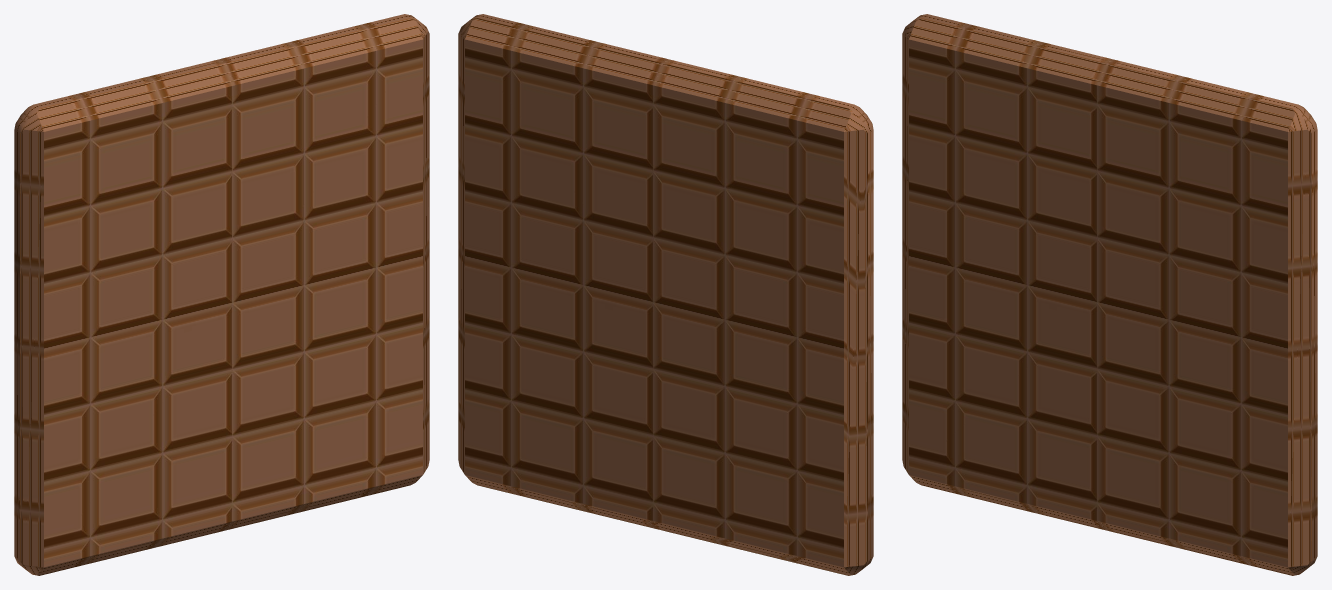
The model's file is cokolat bar.FBX.
3 views of the same model, side by side, from view 1: azimuth 30°, elevation 25°; view 2: azimuth 150°, elevation 25°; view 3: azimuth 330°, elevation 25° (orthographic).
Parts seen in each view (by area): view 1: Box001; view 2: Box001; view 3: Box001.
Boxes of the visible parts, bbox=[...] form: Box001: bbox=[14, 14, 429, 575]; Box001: bbox=[458, 14, 873, 575]; Box001: bbox=[902, 14, 1317, 575].
Bounding box in the file's own units: 93.28 × 102 × 9.12.
1 material, 1 textured.
